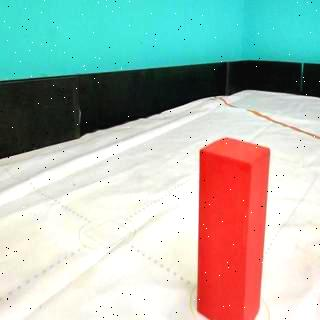redbox: (197, 135, 271, 320)
